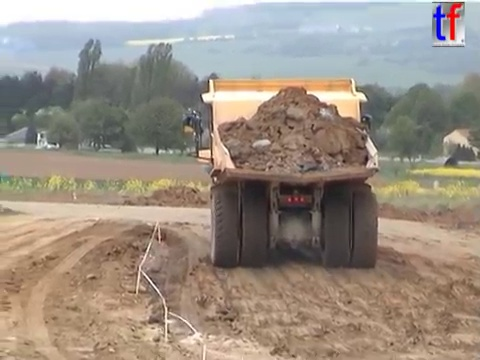truck: (178, 75, 382, 269)
